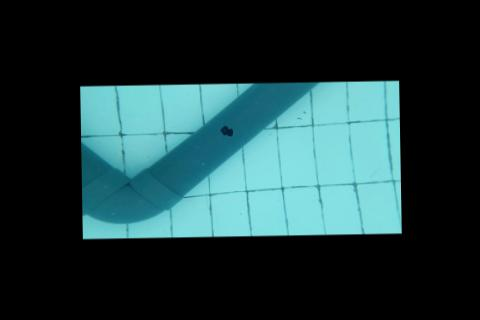kebocoran: (217, 124, 233, 138)
